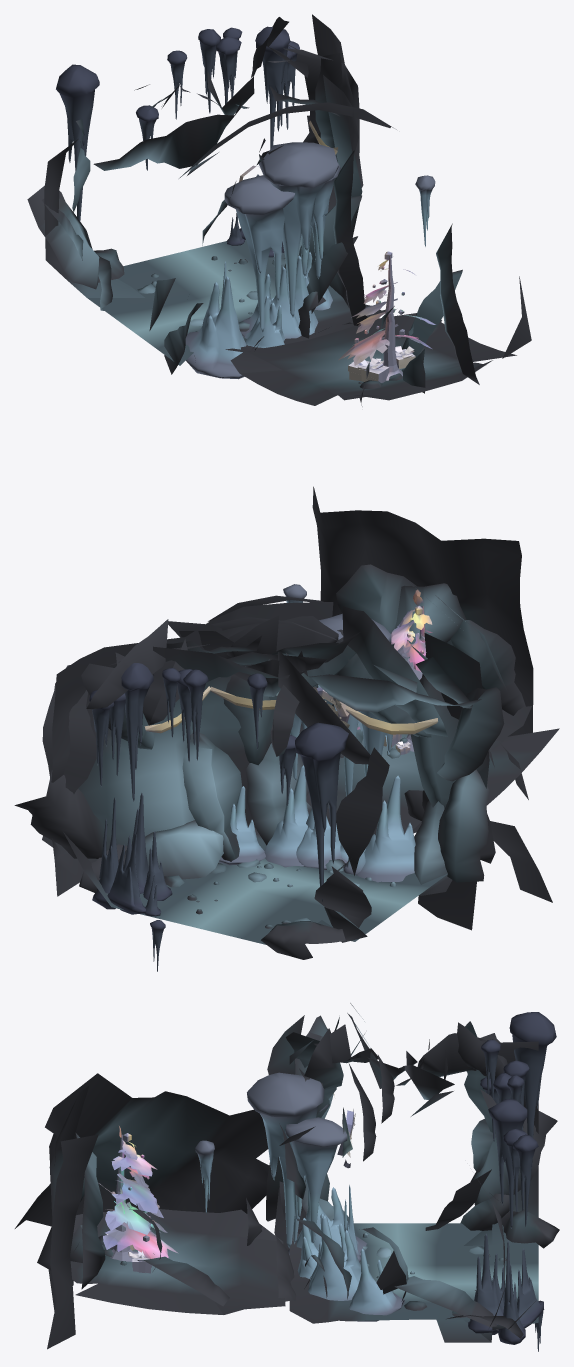
Rendered from Arctic_Tunnels_Turn_Right_B.glb.
3 views of the same model, one above another, from view 1: azimuth 30°, elevation 25°; view 2: azimuth 150°, elevation 25°; view 3: azimuth 270°, elevation 25° (orthographic). The views are drawn at different scales.
Parts seen in each view (by area): view 1: Arctic_Tunnels_Turn_Right_B, Arctic_Tunnels_Icicle_Bright_A05, Arctic_Tunnels_Icicle_Bright_A03, Arctic_Tunnels_Icicle_Bright_A04 (5), Arctic_Tunnels_Icicle_Shadow_A02, Arctic_Tunnels_Icicle_Shadow_A07 (5), Arctic_Tunnels_Icicle_Bright_A04 (7), Arctic_Tunnels_Icicle_Bright_A07, Arctic_Tunnels_Icicle_Bright_A04 (6), Arctic_PineA_leavesBottom_holiday_multicolour, Arctic_PineA_holiday_multicolour, Arctic_Tunnels_Icicle_Shadow_A07 (3) (+6 smaller); view 2: Arctic_Tunnels_Turn_Right_B, Arctic_Tunnels_Icicle_Shadow_A02, Arctic_Tunnels_Icicle_Bright_A04 (5), Arctic_Tunnels_Icicle_Bright_A04 (3), Arctic_Tunnels_Icicle_Shadow_A07 (5), Arctic_Tunnels_Icicle_Shadow_A08 (1), Arctic_PineA_leavesTop_holiday_multicolour, Arctic_Tunnels_Icicle_Bright_A04 (4), Arctic_Tunnels_Icicle_Bright_A04 (7), Arctic_Tunnels_Icicle_Shadow_A08, Arctic_Tunnels_Icicle_Shadow_A02 (2), Arctic_Tunnels_Icicle_Shadow_A07 (7) (+10 smaller); view 3: Arctic_Tunnels_Turn_Right_B, Arctic_Tunnels_Icicle_Bright_A05, Arctic_Tunnels_Icicle_Bright_A07, Arctic_Tunnels_Icicle_Shadow_A02, Arctic_PineA_leavesBottom_holiday_multicolour, Arctic_Tunnels_Icicle_Bright_A04 (3), Arctic_Tunnels_Icicle_Shadow_A07 (5), Arctic_Tunnels_Icicle_Bright_A04 (4), Arctic_Tunnels_Icicle_Shadow_A02 (2), Arctic_Tunnels_Icicle_Bright_A04 (5), Arctic_PineA_leavesMiddle_holiday_multicolour, Arctic_Tunnels_Icicle_Shadow_A08 (1) (+8 smaller).
Part boxes in pixels (x1,y1,x2,y2): Arctic_Tunnels_Turn_Right_B: (27, 14, 531, 406); Arctic_Tunnels_Icicle_Bright_A05: (259, 142, 338, 317); Arctic_Tunnels_Icicle_Bright_A03: (224, 175, 294, 332); Arctic_Tunnels_Icicle_Bright_A04 (5): (185, 276, 246, 379); Arctic_Tunnels_Icicle_Shadow_A02: (56, 64, 99, 221); Arctic_Tunnels_Icicle_Shadow_A07 (5): (255, 26, 290, 148); Arctic_Tunnels_Icicle_Bright_A04 (7): (241, 266, 300, 338); Arctic_Tunnels_Icicle_Bright_A07: (311, 162, 340, 278); Arctic_Tunnels_Icicle_Bright_A04 (6): (242, 296, 284, 347); Arctic_PineA_leavesBottom_holiday_multicolour: (338, 315, 435, 365); Arctic_PineA_holiday_multicolour: (383, 255, 402, 380); Arctic_Tunnels_Icicle_Shadow_A07 (3): (216, 36, 241, 104); Arctic_Tunnels_Turn_Right_B: (14, 486, 559, 959); Arctic_Tunnels_Icicle_Shadow_A02: (295, 722, 348, 901); Arctic_Tunnels_Icicle_Bright_A04 (5): (355, 775, 415, 882); Arctic_Tunnels_Icicle_Bright_A04 (3): (264, 765, 308, 867); Arctic_Tunnels_Icicle_Shadow_A07 (5): (121, 663, 153, 801); Arctic_Tunnels_Icicle_Shadow_A08 (1): (107, 833, 145, 914); Arctic_PineA_leavesTop_holiday_multicolour: (391, 589, 432, 671); Arctic_Tunnels_Icicle_Bright_A04 (4): (219, 786, 265, 865); Arctic_Tunnels_Icicle_Bright_A04 (7): (296, 808, 347, 869); Arctic_Tunnels_Icicle_Shadow_A08: (92, 797, 118, 909); Arctic_Tunnels_Icicle_Shadow_A02 (2): (123, 793, 148, 893); Arctic_Tunnels_Icicle_Shadow_A07 (7): (183, 669, 208, 760); Arctic_Tunnels_Turn_Right_B: (15, 1003, 559, 1349); Arctic_Tunnels_Icicle_Bright_A05: (247, 1072, 324, 1247); Arctic_Tunnels_Icicle_Bright_A07: (285, 1117, 347, 1244); Arctic_Tunnels_Icicle_Shadow_A02: (509, 1012, 556, 1168); Arctic_PineA_leavesBottom_holiday_multicolour: (103, 1194, 178, 1258); Arctic_Tunnels_Icicle_Bright_A04 (3): (308, 1215, 376, 1300); Arctic_Tunnels_Icicle_Shadow_A07 (5): (488, 1099, 527, 1228); Arctic_Tunnels_Icicle_Bright_A04 (4): (349, 1248, 404, 1321); Arctic_Tunnels_Icicle_Shadow_A02 (2): (468, 1233, 503, 1334); Arctic_Tunnels_Icicle_Bright_A04 (5): (288, 1187, 367, 1255); Arctic_PineA_leavesMiddle_holiday_multicolour: (98, 1173, 163, 1217); Arctic_Tunnels_Icicle_Shadow_A08 (1): (517, 1248, 543, 1328).
Size of what is drawn, in the model's own units: 11.82 by 9.68 by 16.25.
